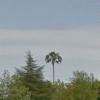Tree: (14, 47, 52, 100)
